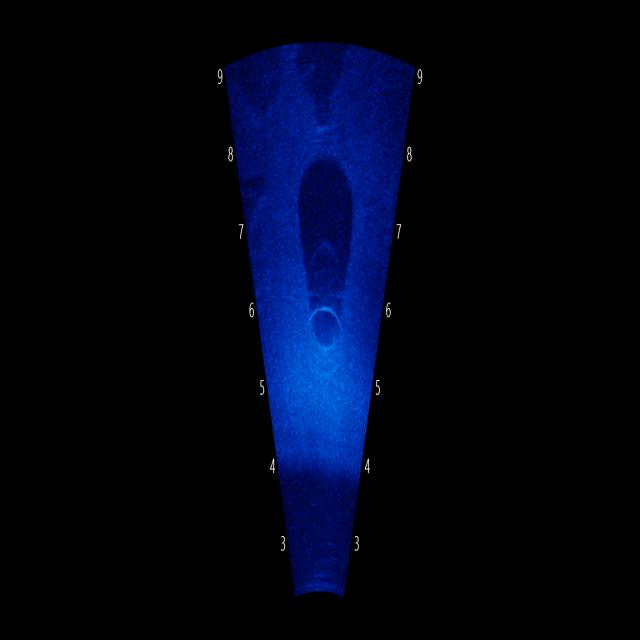circle: (286, 260, 357, 395)
